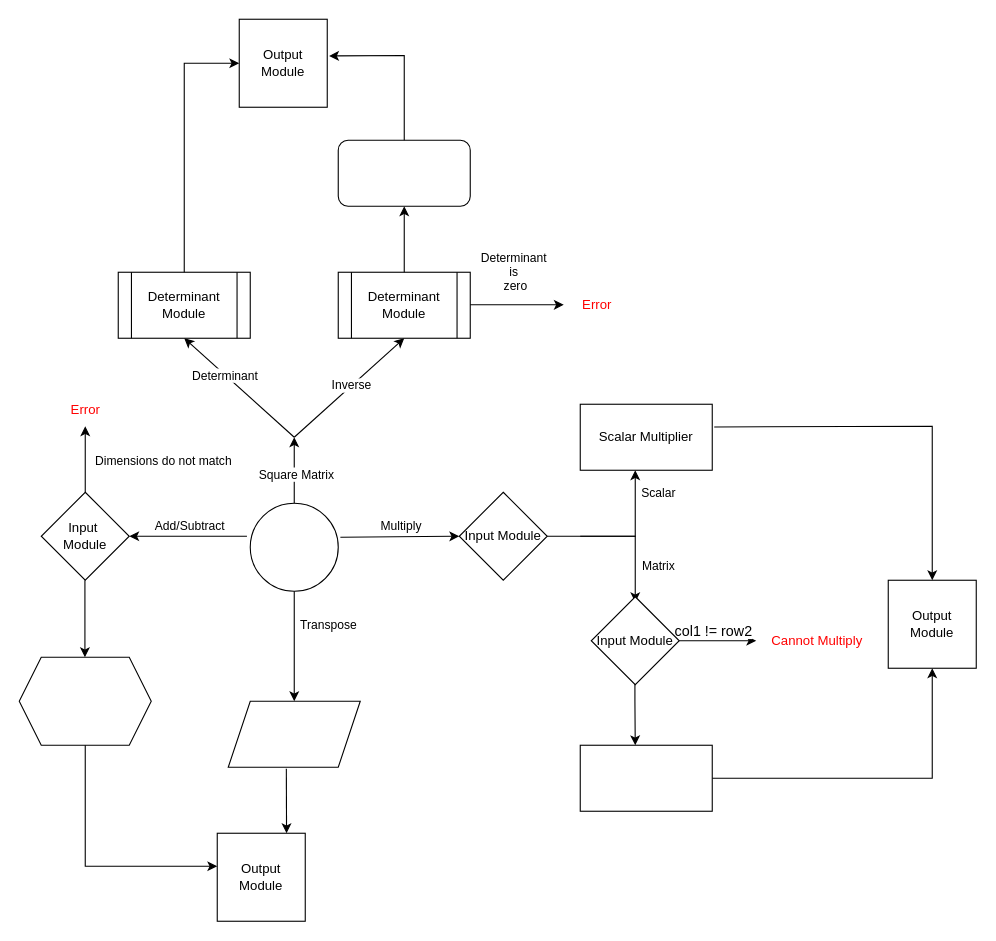
This 996x941 diagram has some shape labels left out. The shapes that lost their labels are listed below. From the top down, each one's centre as x and y in pixels, then its label:
At pixel 403 172: "Inverse Module".
At pixel 293 546: "Initial Matrix".
At pixel 84 700: "Add-Subtract module".
At pixel 293 733: "Transpose Module".
At pixel 645 777: "Matrix Multiplier Module".
